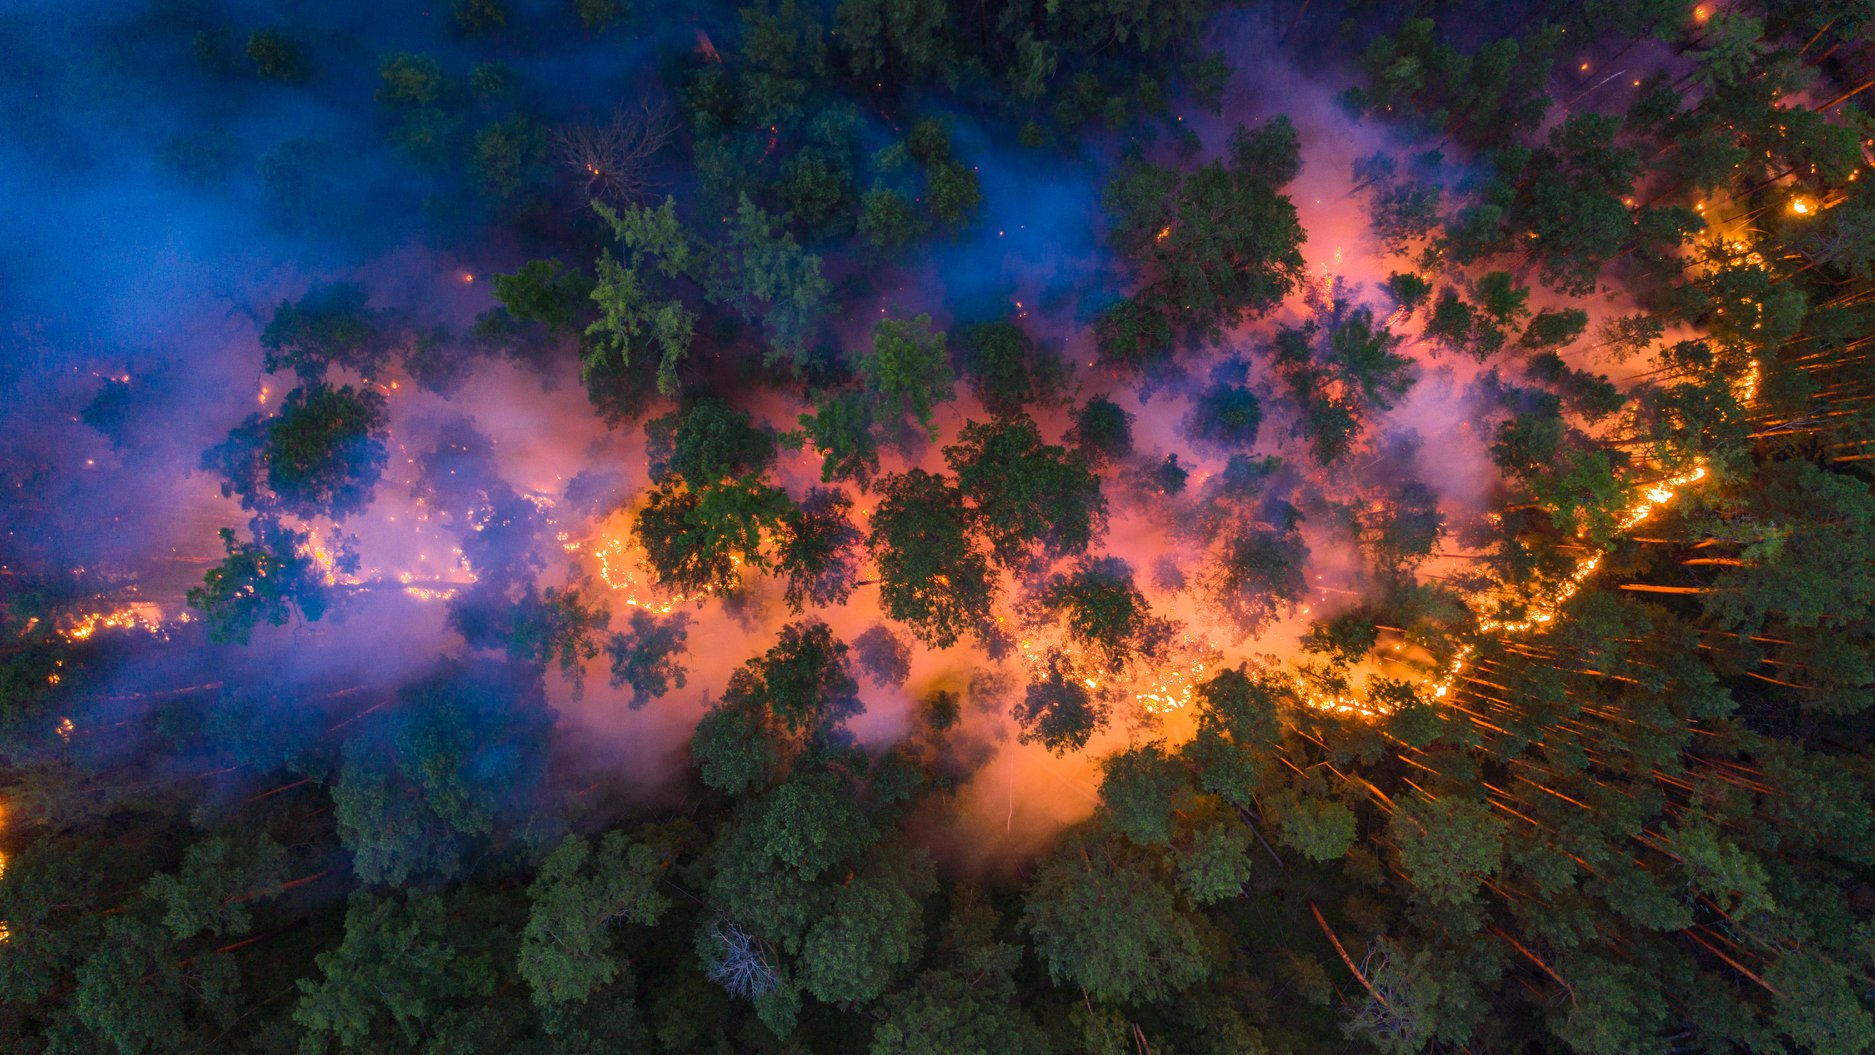fire: (1514, 93, 1860, 593), (242, 365, 782, 654), (1032, 568, 1590, 745), (15, 593, 188, 742)
